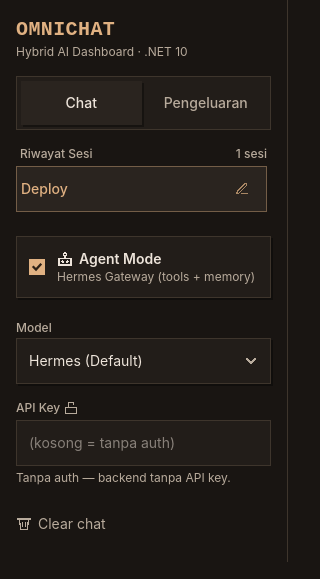
Test: Sidebar › dismisses the rename editor on Escape and keeps the old title
Click the button named "Ganti nama Deploy". click: (242, 189)
box: [220,167,264,211]
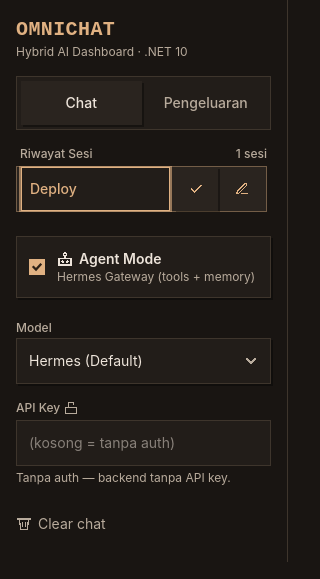
Press Escape in the field named "Judul baru untuk Deploy", box [21,167,170,211]
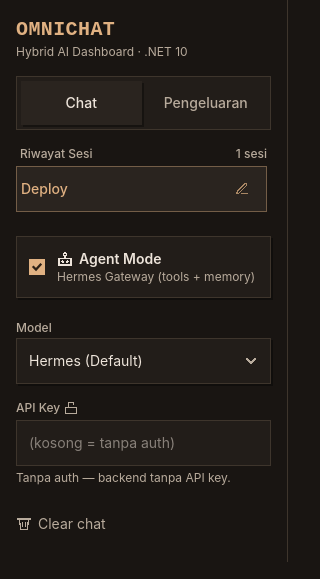
Check: the text "Deploy" is shown, box [21,180,68,197]
